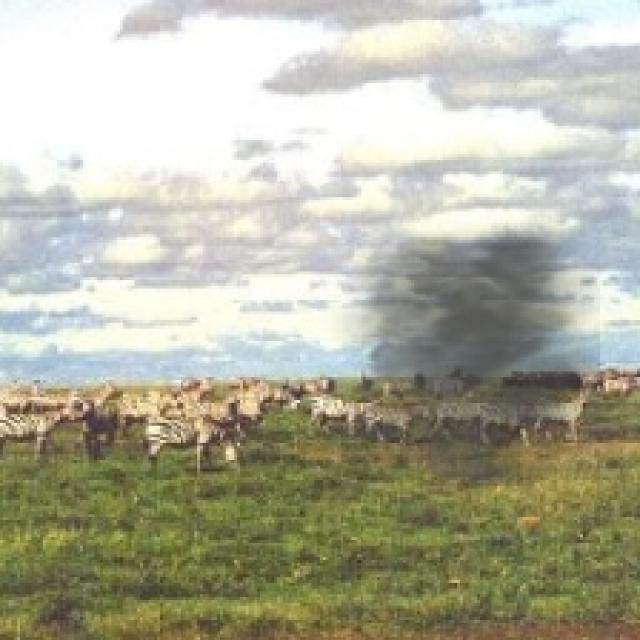Smoke: (317, 214, 600, 486)
